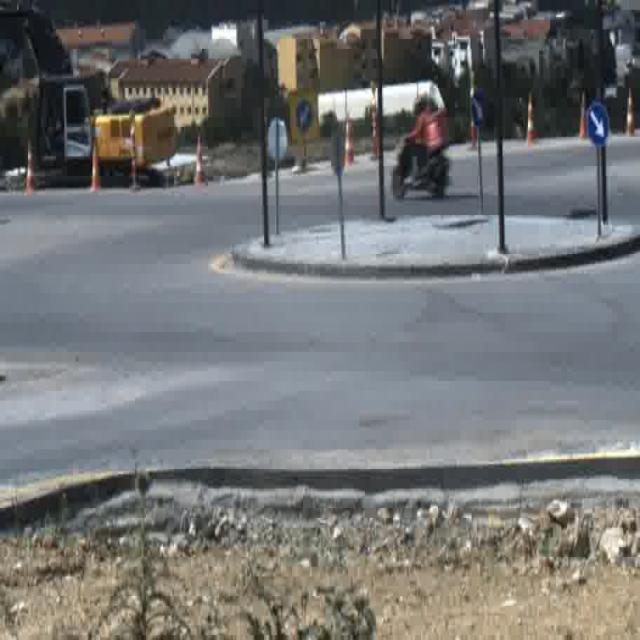Motorcycle: (390, 97, 449, 201)
